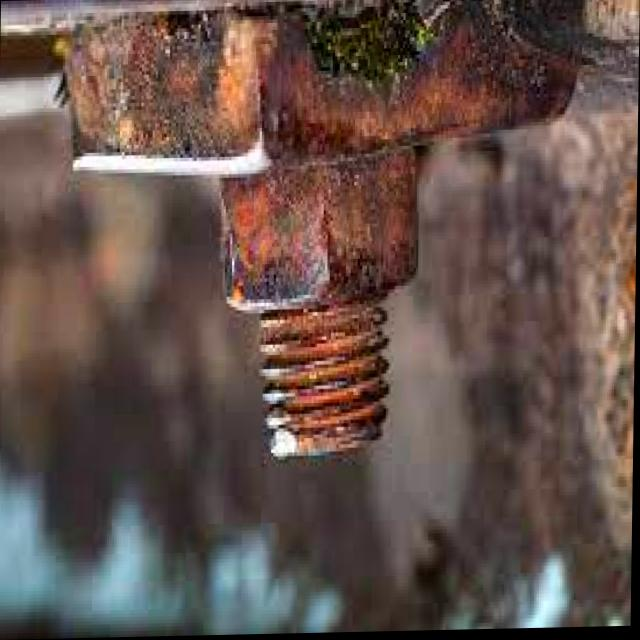Rusty bolt: (219, 132, 422, 343)
